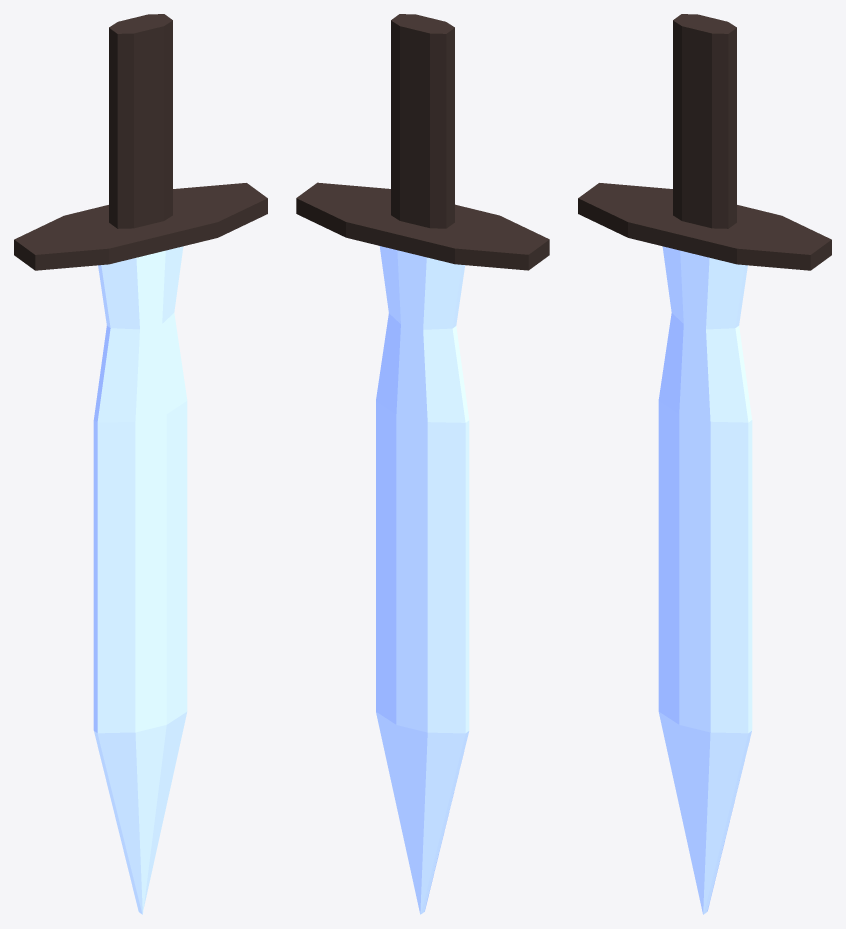
File: Key_Blade.fbx
3 views of the same model, side by side, from view 1: azimuth 30°, elevation 25°; view 2: azimuth 150°, elevation 25°; view 3: azimuth 330°, elevation 25° (orthographic).
Visible parts, largest first — view 1: Куб.012; view 2: Куб.012; view 3: Куб.012.
Boxes of the visible parts, left/top/right/bottom form: Куб.012: left=14, top=14, right=267, bottom=914; Куб.012: left=296, top=14, right=549, bottom=914; Куб.012: left=578, top=14, right=831, bottom=914.
Size of the model in its own units: 57.32 by 210 by 19.23.
